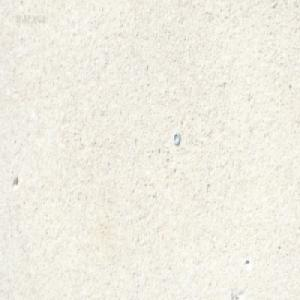Washer: (172, 131, 180, 146)
